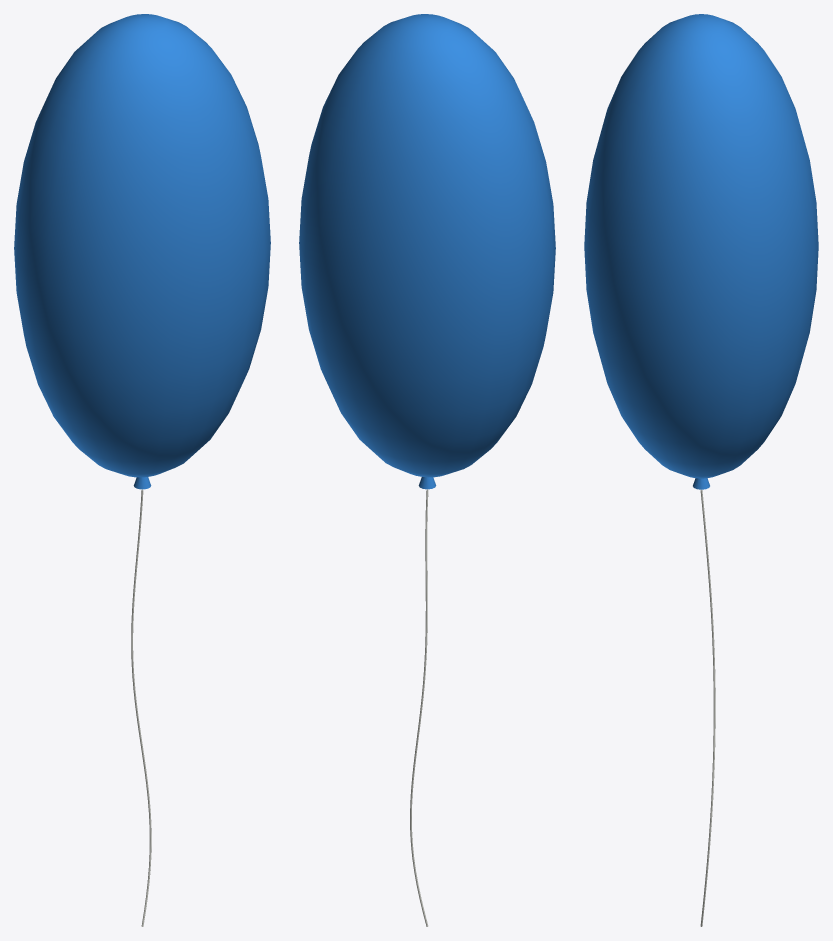
File: balloon_oval_blue.glb
The picture shows the model from 3 angles, left to right: view 1: azimuth 30°, elevation 25°; view 2: azimuth 150°, elevation 25°; view 3: azimuth 270°, elevation 25°; orthographic projection.
Visible parts, largest first — view 1: Oval balloon, Trailing string; view 2: Oval balloon, Trailing string; view 3: Oval balloon, Trailing string.
Boxes of the visible parts, box(x1,y1,x2,y2) form: Oval balloon: box(14, 14, 270, 477); Trailing string: box(131, 489, 151, 926); Oval balloon: box(299, 14, 555, 477); Trailing string: box(410, 489, 428, 926); Oval balloon: box(584, 14, 818, 478); Trailing string: box(700, 489, 715, 926).
Size of the model in its own units: 0.36 by 1.36 by 0.32.
